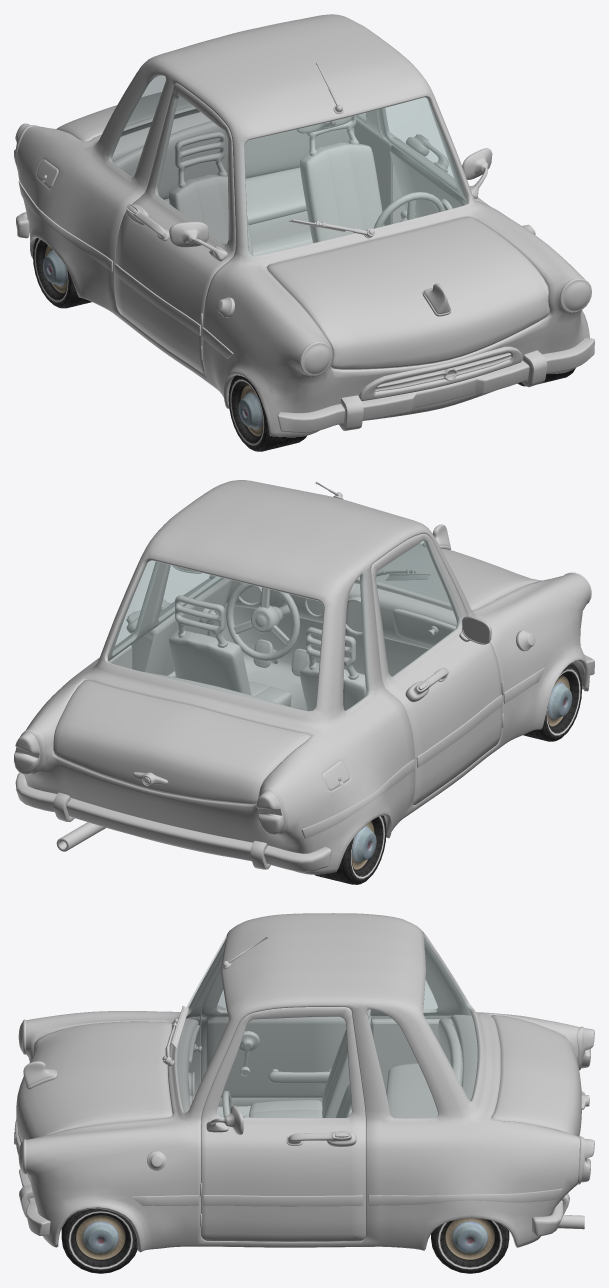
The picture shows the model from 3 angles, top to bottom: view 1: azimuth 30°, elevation 25°; view 2: azimuth 150°, elevation 25°; view 3: azimuth 270°, elevation 25°; orthographic projection. The views are drawn at different scales.
Parts seen in each view (by area): view 1: Car-Body_CarC6_0003.002, Windows_CarC6_0003.001, Car-Wheel.Ft.R_CarC6_0003.001, Car-Wheel.Bk.R_CarC6_0003.001, SteeringWheel_CarC6_0003.001; view 2: Car-Body_CarC6_0003.002, Windows_CarC6_0003.001, SteeringWheel_CarC6_0003.001, Car-Wheel.Bk.R_CarC6_0003.001, Car-Wheel.Ft.R_CarC6_0003.001; view 3: Car-Body_CarC6_0003.002, Windows_CarC6_0003.001, Car-Wheel.Ft.L_CarC6_0003.001, Car-Wheel.Bk.L_CarC6_0003.001.
Boxes of the visible parts, x1,y1,x2,y2 form: Car-Body_CarC6_0003.002: (14,14,594,437); Windows_CarC6_0003.001: (108,76,468,257); Car-Wheel.Ft.R_CarC6_0003.001: (228,375,306,451); Car-Wheel.Bk.R_CarC6_0003.001: (33,238,91,308); SteeringWheel_CarC6_0003.001: (373,192,444,228); Car-Body_CarC6_0003.002: (14,480,594,874); Windows_CarC6_0003.001: (107,539,461,711); SteeringWheel_CarC6_0003.001: (226,583,300,661); Car-Wheel.Bk.R_CarC6_0003.001: (314,815,386,884); Car-Wheel.Ft.R_CarC6_0003.001: (523,663,582,741); Car-Body_CarC6_0003.002: (14,913,594,1252); Windows_CarC6_0003.001: (175,936,478,1117); Car-Wheel.Ft.L_CarC6_0003.001: (61,1208,137,1273); Car-Wheel.Bk.L_CarC6_0003.001: (431,1218,509,1273).
Bounding box in the file's own units: 339 × 280 × 549.
